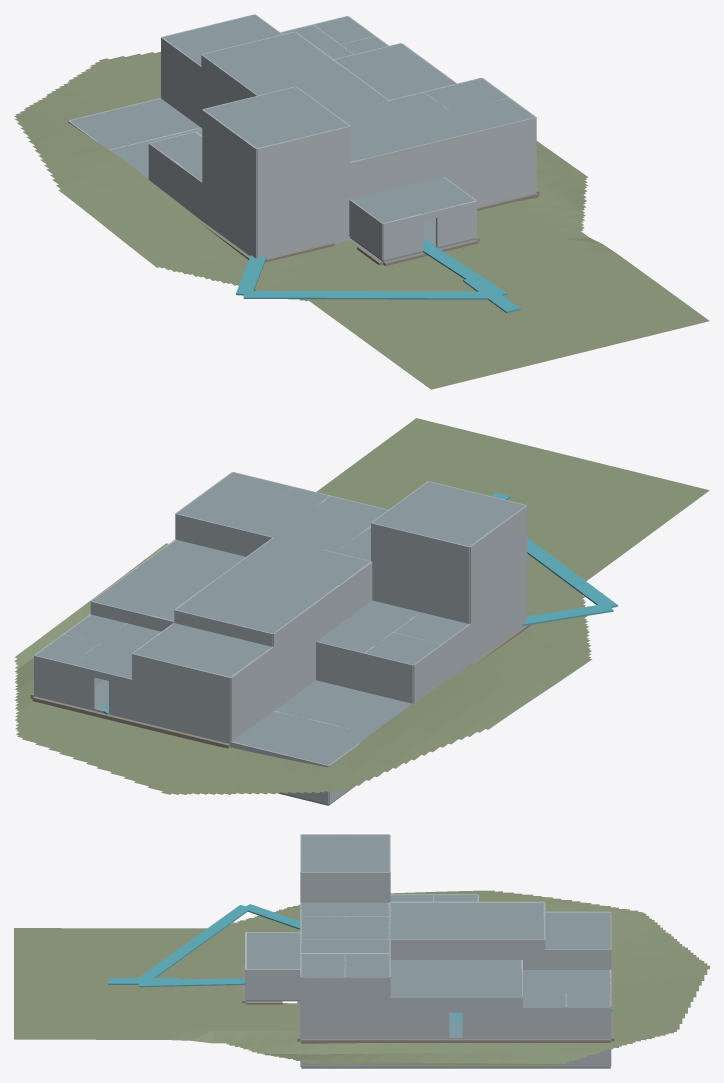
Rendered from closed-floors.glb.
3 views of the same model, one above another, from view 1: azimuth 30°, elevation 25°; view 2: azimuth 150°, elevation 25°; view 3: azimuth 270°, elevation 25° (orthographic). The views are drawn at different scales.
Visible parts, largest first — view 1: Saved editor macroterrain CHURCH, Ceiling cap nave, Ceiling cap belfry, Ceiling cap chapel, Wall belfry S, Wall tower-stair S, Ceiling cap choir, Ceiling cap vestibule, Wall crypt-entry S, Ceiling cap chancel, Wall chancel W, Ceiling cap vault-north (+29 smaller); view 2: Saved editor macroterrain CHURCH, Ceiling cap nave, Wall chancel N, Ceiling cap chapel, Ceiling cap belfry, Wall nave W, Ceiling cap chancel, Wall belfry N, Wall tower-stair N, Ceiling cap choir, Wall chancel W, Ceiling cap vault-north (+32 smaller); view 3: Saved editor macroterrain CHURCH, Ceiling cap nave, Ceiling cap chapel, Ceiling cap belfry, Wall crypt-entry E, Wall belfry E, Ceiling cap chancel, Wall chapel E, Wall chapel E.001, Ceiling cap choir, Ceiling cap vestibule, Ceiling cap vestry (+21 smaller).
Boxes of the visible parts, x1,y1,x2,y2 form: Saved editor macroterrain CHURCH: (14,51,709,389); Ceiling cap nave: (202,32,388,113); Ceiling cap belfry: (203,87,348,148); Ceiling cap chapel: (334,43,455,99); Wall belfry S: (256,126,350,185); Wall tower-stair S: (256,163,350,221); Ceiling cap choir: (335,101,441,153); Ceiling cap vestibule: (350,177,475,223); Wall crypt-entry S: (444,154,535,204); Ceiling cap chancel: (162,14,281,65); Wall chancel W: (161,37,201,127); Ceiling cap vault-north: (69,98,187,140); Saved editor macroterrain CHURCH: (14,418,709,794); Ceiling cap nave: (175,537,370,633); Wall chancel N: (132,654,230,741); Ceiling cap chapel: (92,540,245,620); Ceiling cap belfry: (372,481,525,546); Wall nave W: (273,585,340,710); Ceiling cap chancel: (133,623,271,676); Wall belfry N: (371,523,469,585); Wall tower-stair N: (372,562,469,623); Ceiling cap choir: (274,496,387,552); Wall chancel W: (230,646,273,741); Ceiling cap vault-north: (232,721,356,765); Saved editor macroterrain CHURCH: (14,890,709,1066); Ceiling cap nave: (389,902,544,939); Ceiling cap chapel: (390,960,522,996); Ceiling cap belfry: (301,834,389,871); Wall crypt-entry E: (301,1007,389,1037); Wall belfry E: (301,872,389,902); Ceiling cap chancel: (545,912,610,949); Wall chapel E: (462,997,522,1037); Wall chapel E.001: (389,997,449,1037); Ceiling cap choir: (301,916,389,939); Ceiling cap vestibule: (247,932,300,969); Ceiling cap vestry: (523,970,610,992).
Bounding box in the file's own units: 36 × 12.16 × 63.
